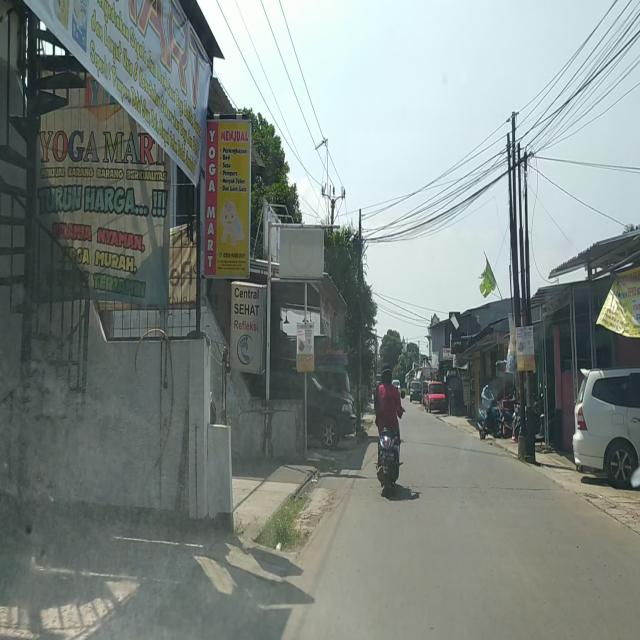Sewer Cover: (343, 482, 562, 492)
